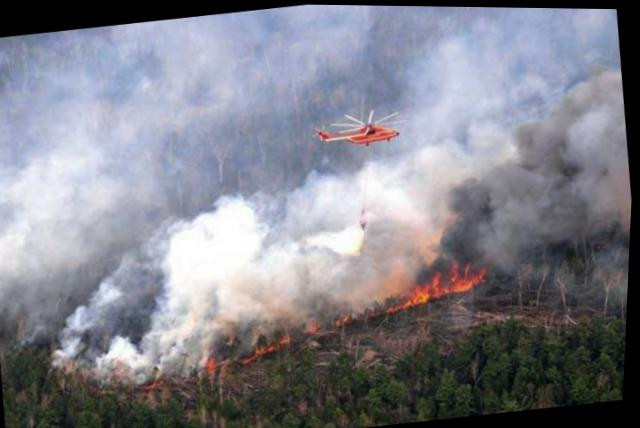fire: (196, 251, 504, 373), (136, 371, 169, 391)
